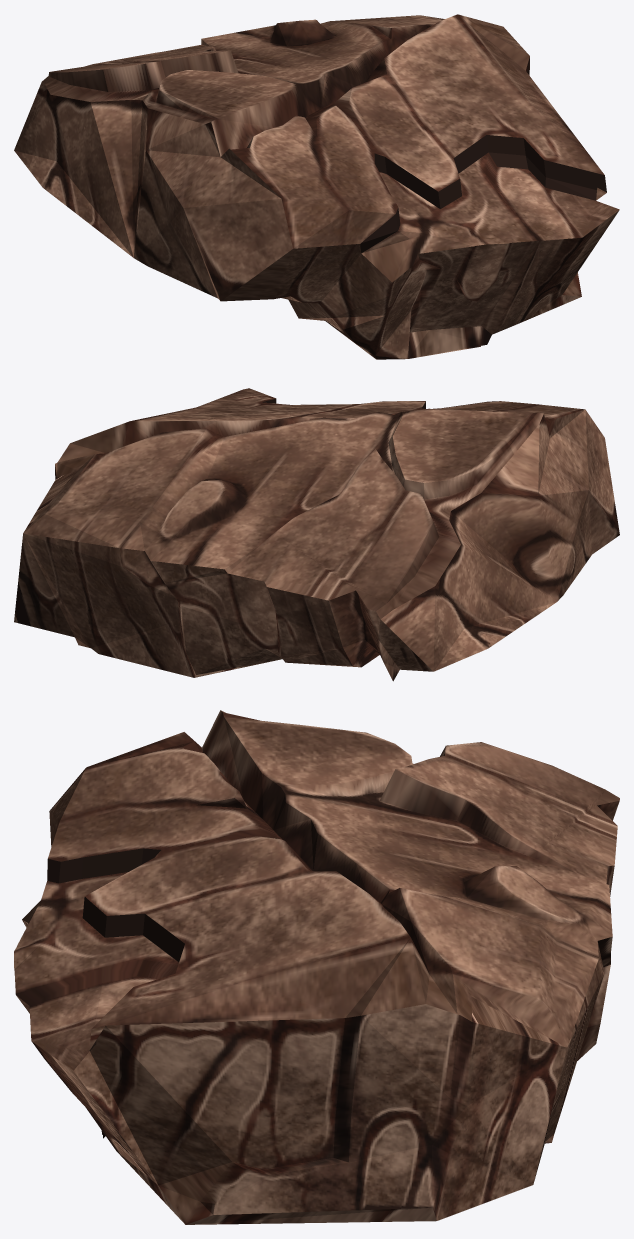
The model's file is rock_Atexture.fbx.
3 renders of one model, top to bottom at view 1: azimuth 30°, elevation 25°; view 2: azimuth 150°, elevation 25°; view 3: azimuth 270°, elevation 25°, orthographic. The views are drawn at different scales.
Parts seen in each view (by area): view 1: Plane.003; view 2: Plane.003; view 3: Plane.003.
Boxes of the visible parts, x1,y1,x2,y2 form: Plane.003: (14,14,619,359); Plane.003: (14,388,619,681); Plane.003: (14,710,619,1224).
Size of the model in its own units: 240 by 128 by 231.
